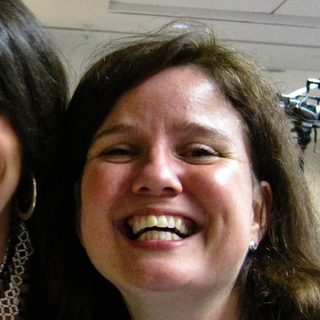eye: (169, 136, 225, 165), (97, 141, 143, 166)
